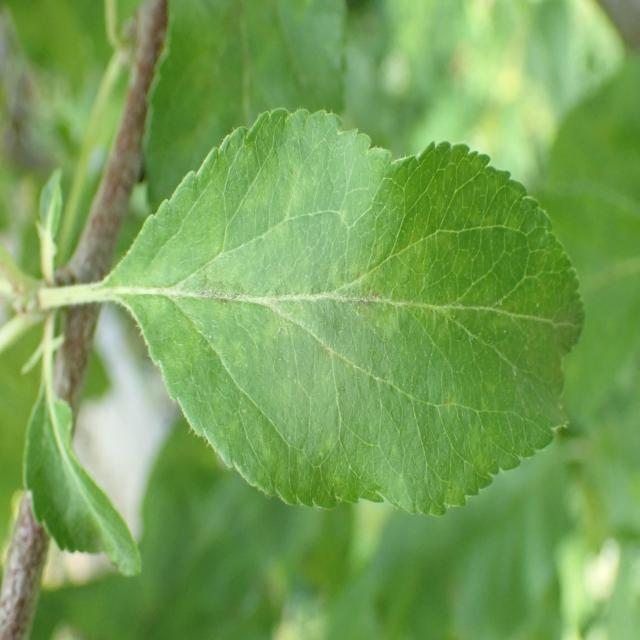scab: (138, 180, 583, 453)
